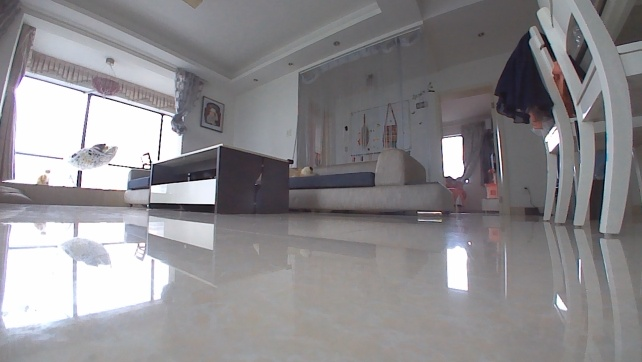dining_table1: (493, 0, 641, 237)
sofa: (289, 144, 452, 215)
tea_table: (147, 141, 290, 216)
wire: (523, 186, 535, 207)
